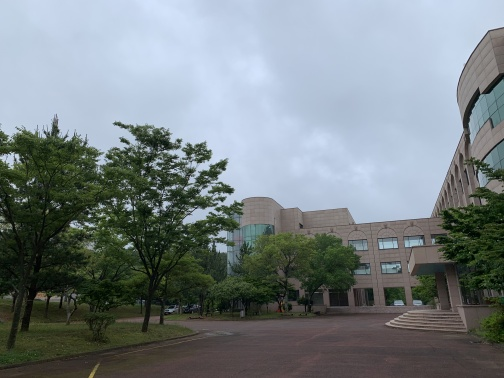Joint Experimental Labs: (223, 190, 281, 279)
Natural Science2: (373, 11, 504, 361), (416, 26, 504, 220), (394, 230, 499, 344)
